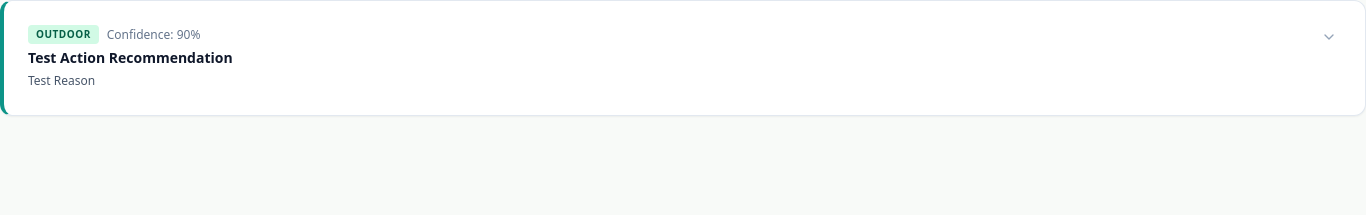
Test: UI & Feature Component Tests › expands recommendation card details on toggle button click
The image size is (1366, 215).
Expected: the heading "Test Action Recommendation" is shown, x1=28 y1=48 x2=233 y2=67
# Toggle details button
Step 1. Click the button named "toggle details" → coordinates (1329, 37), box x1=1317 y1=25 x2=1341 y2=49
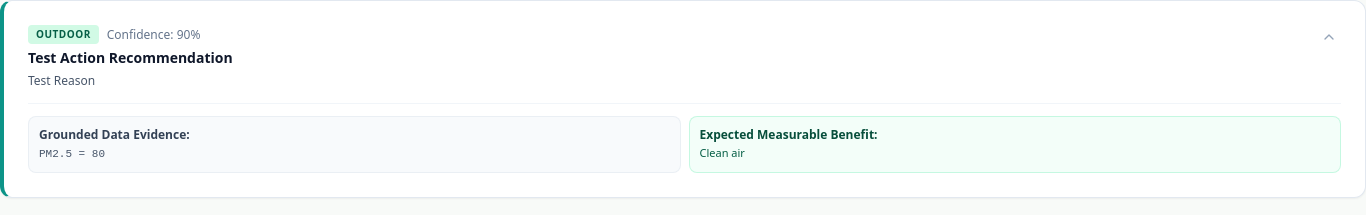
Result: the text "Grounded Data Evidence:" is shown at x1=39 y1=126 x2=190 y2=143
Result: the text "PM2.5 = 80" is shown at x1=39 y1=148 x2=105 y2=160
